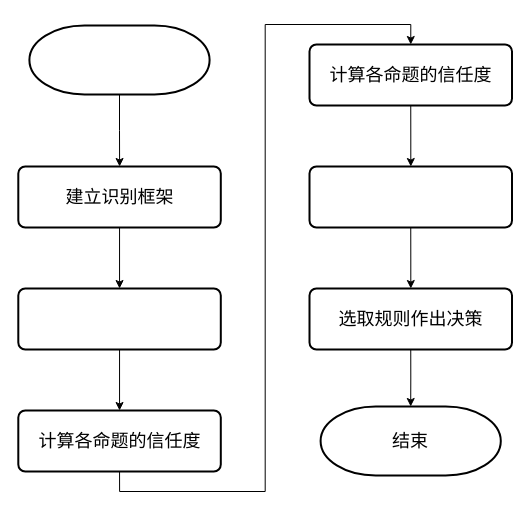
The diagram is 530 pixels wide and 517 high, and some of its shapes have lost their labels. The shapes that lost their labels are listed below. From the top down, each one's centre as x and y in pixels, then its label:
the point at 119,59: 开始
the point at 410,196: 证据合成
the point at 119,318: 初始信度分配
